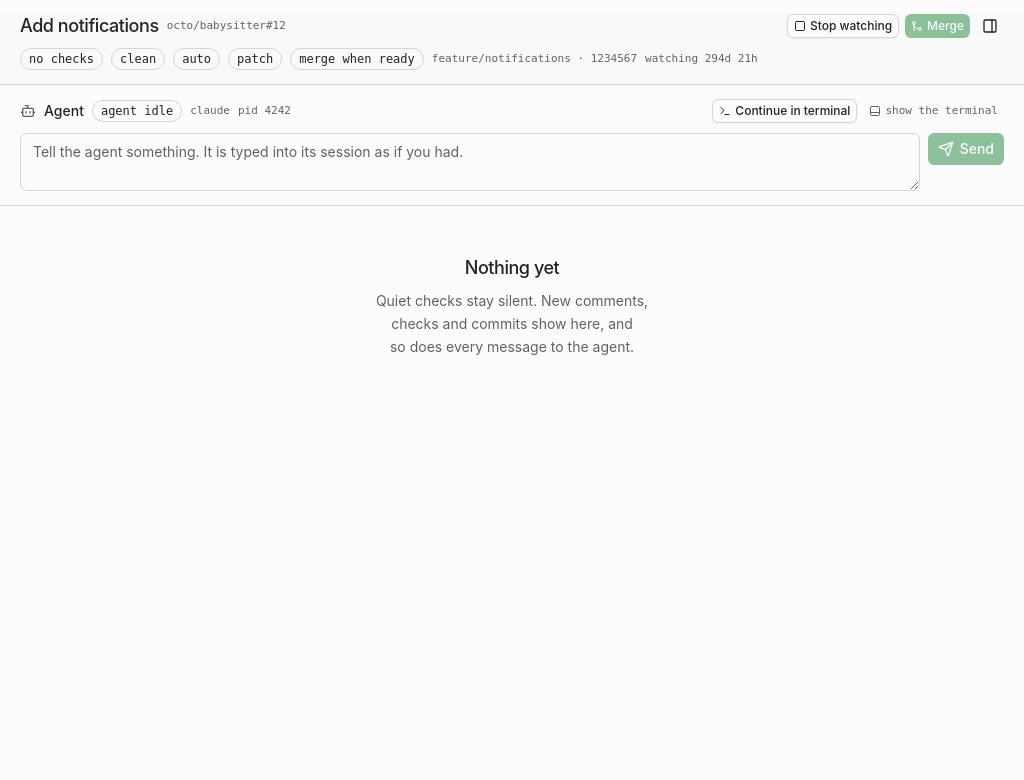
it: a Dependabot watch says the scope of the repository turned merge when ready on
The image size is (1024, 780).
Step 1. Click the button named "Watch settings" → (990, 26), box [976,12,1004,40]
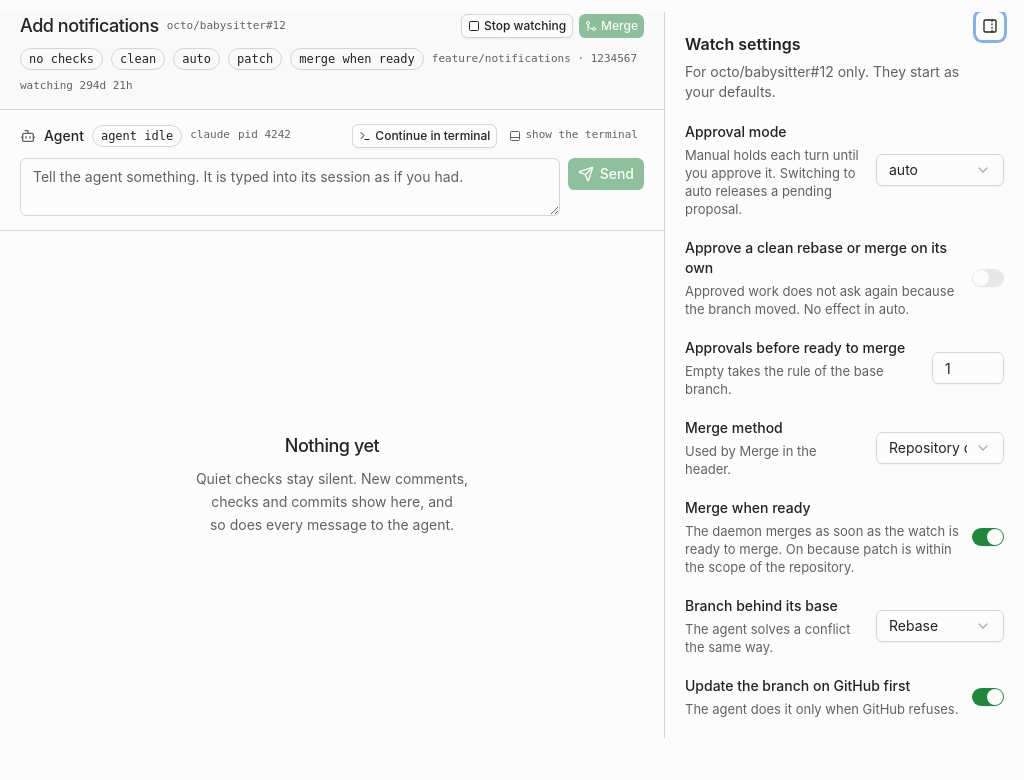
Check: the 2nd switch named "Merge when ready" is checked, box [972,528,1004,546]
Check: the text "The daemon merges as soon as the watch is ready to merge. On because patch is within the scope of the repository." is shown, box [685,523,959,575]
